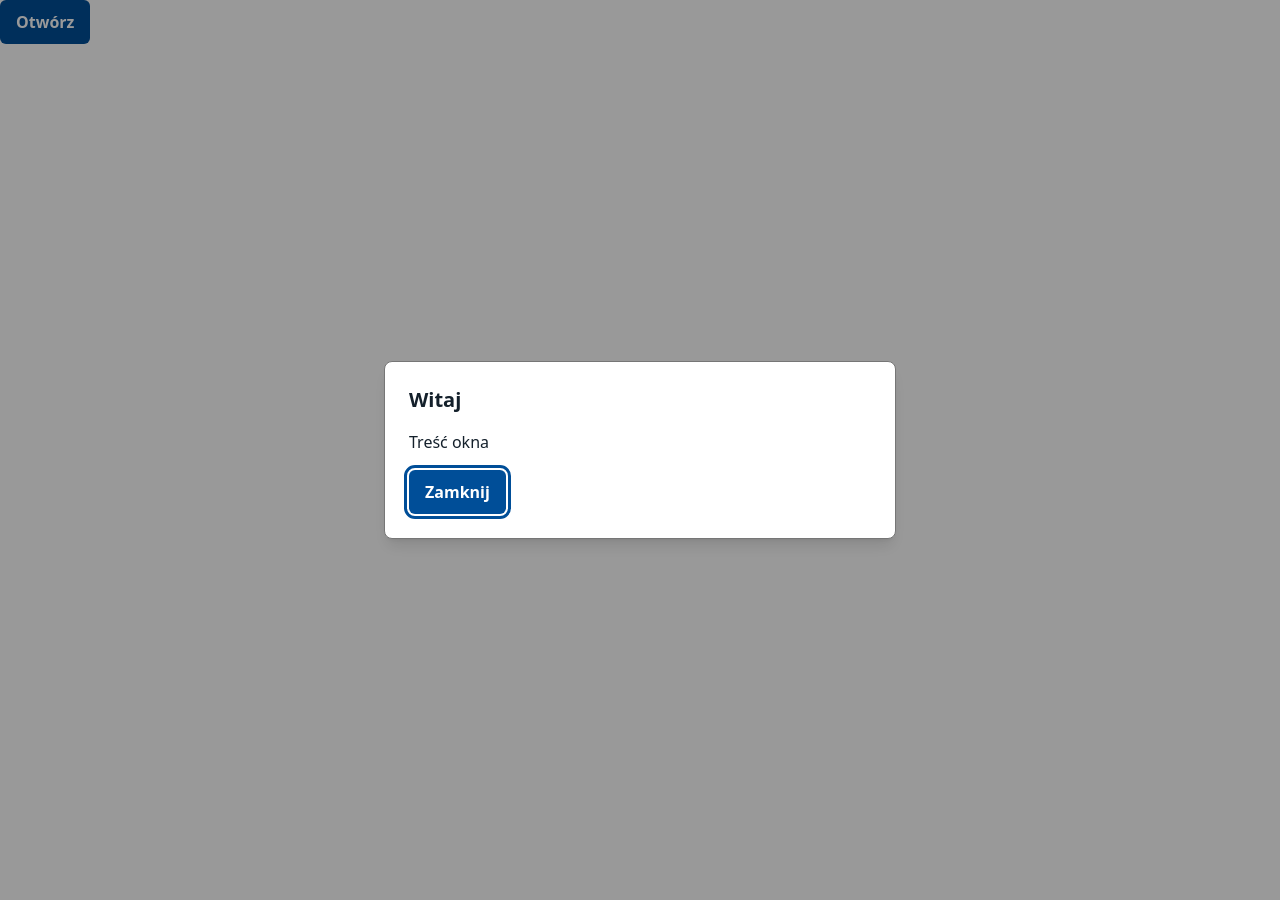
Test case: Modal › closes through the footer and can be opened again
This screenshot has width=1280, height=900.
Click the button "Zamknij": (457,492) [409,470,506,514]
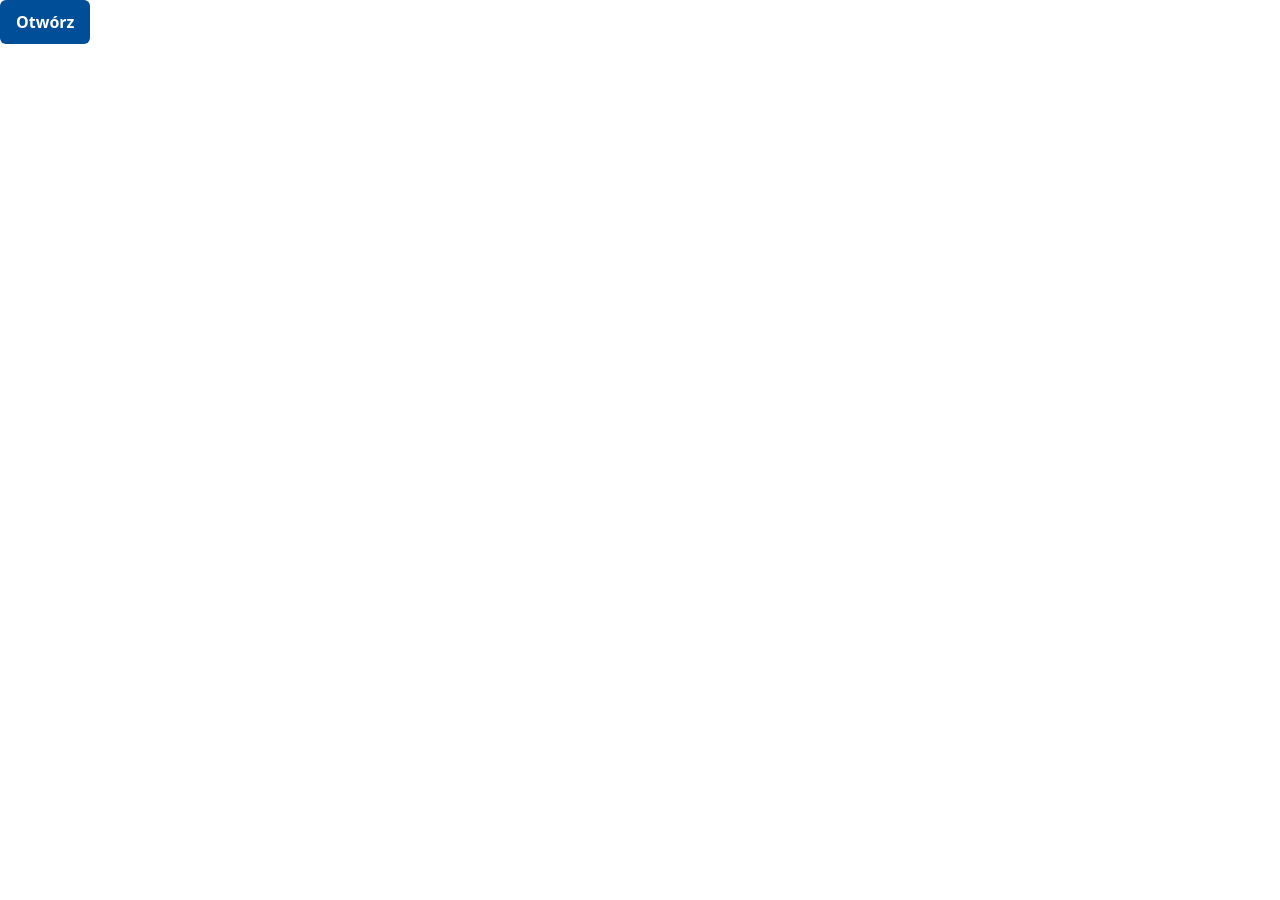
Now the dialog is gone
Click the button "Otwórz": (45,22) [0,0,90,44]
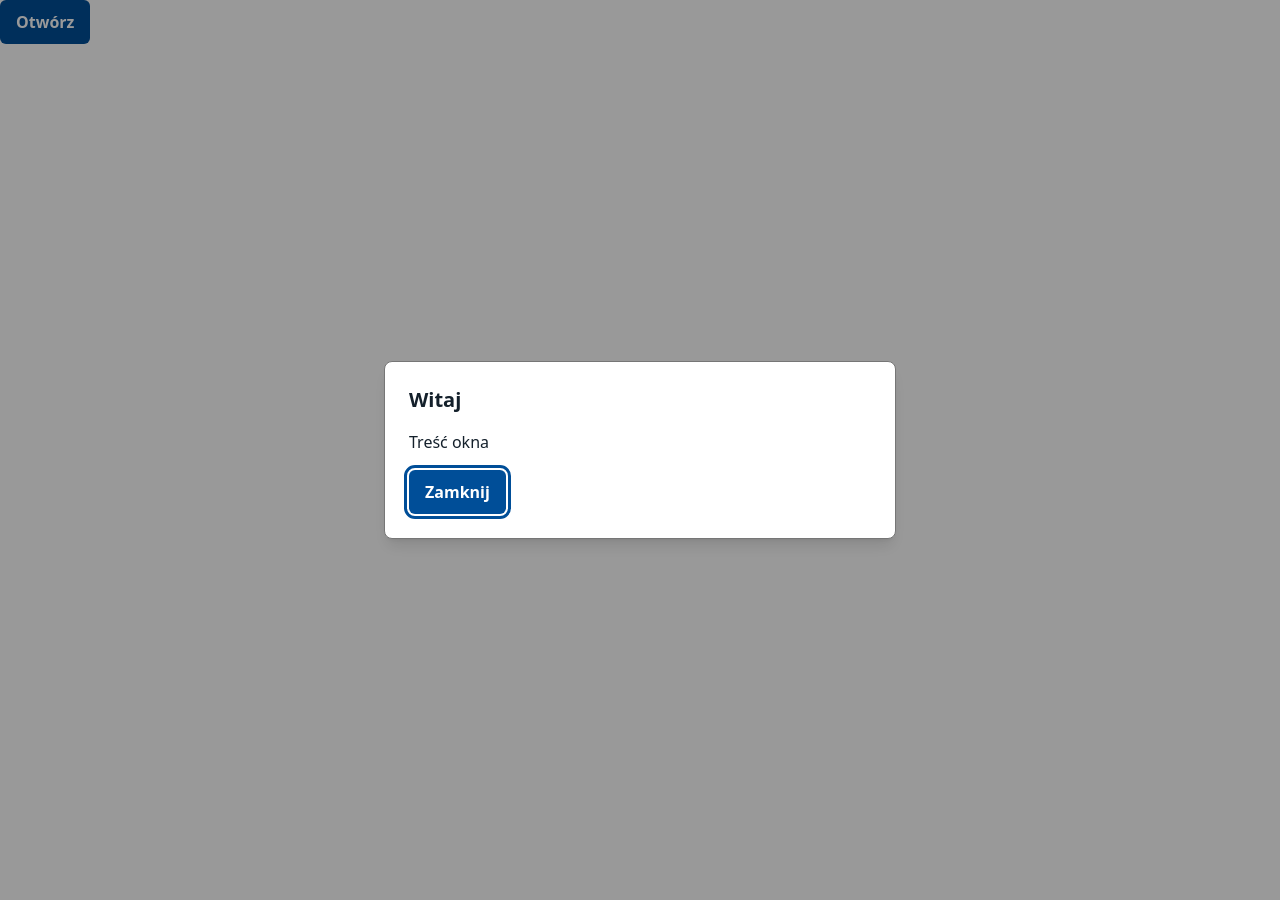
Now the dialog "Witaj" is shown, box [384,361,896,539]
